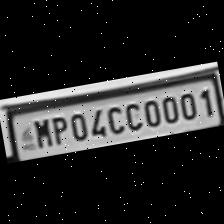0: (173, 88, 199, 122), (64, 108, 89, 142), (138, 95, 162, 128), (156, 92, 180, 124)
1: (194, 84, 217, 118)
4: (84, 105, 107, 139)
C: (101, 102, 125, 136), (120, 98, 144, 132)
M: (28, 115, 54, 148)
P: (47, 111, 70, 146)
